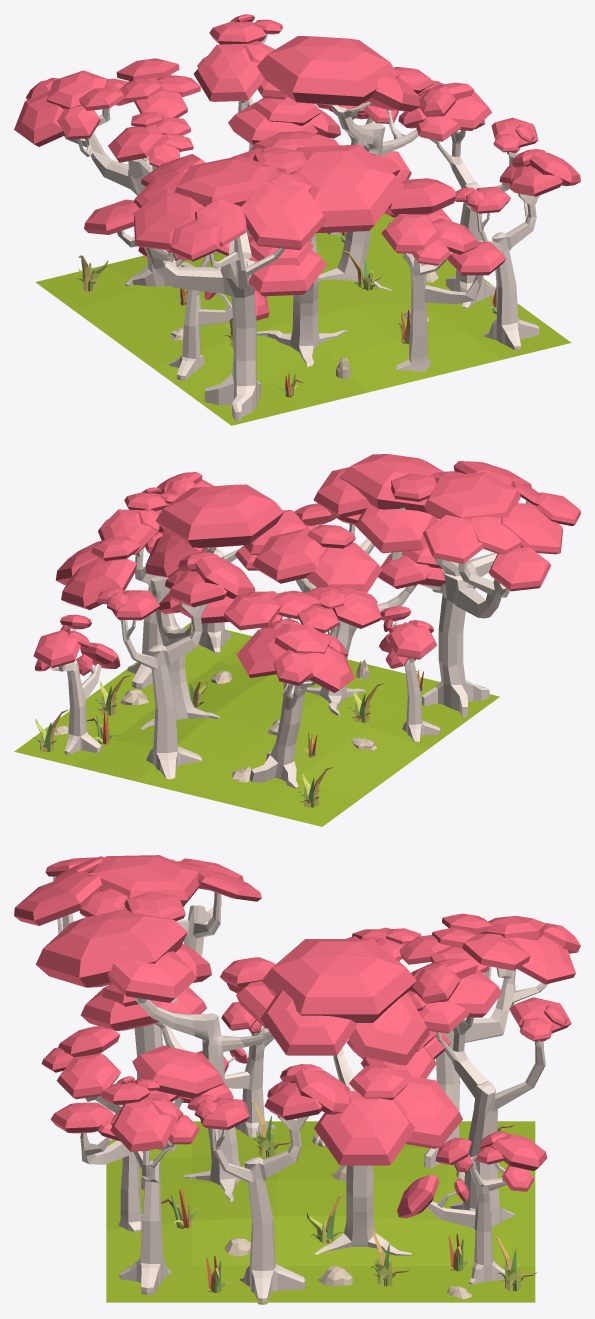
Rendered from chunk_1_final.fbx.
3 renders of one model, top to bottom at view 1: azimuth 30°, elevation 25°; view 2: azimuth 150°, elevation 25°; view 3: azimuth 270°, elevation 25°, orthographic. The views are drawn at different scales.
Visible parts, largest first — view 1: floortile, boom2_kroon_MOD, bladeren_pasted__left_leafs_bladeren_pasted__tree_bladeren_g (×12), bladeren_pasted__pSphere3_bladeren_pasted__left_leafs_blader (×3), boomkroon_bladeren, boom2_stam_MOD, pCylinder2, pCylinder1, pSphere3_3, boomstam_takken, pCylinder2_2, stam_2 (+12 smaller); view 2: floortile, bladeren_pasted__left_leafs_bladeren_pasted__tree_bladeren_g (×12), boom2_kroon_MOD, boomkroon_bladeren, bladeren_pasted__pSphere3_bladeren_pasted__left_leafs_blader (×3), boom2_stam_MOD, boomstam_takken, stam_3, pCylinder2, bovenkant_3, stam_4, pCylinder2_2 (+11 smaller); view 3: floortile, bladeren_pasted__left_leafs_bladeren_pasted__tree_bladeren_g (×15), bladeren_pasted__pSphere3_bladeren_pasted__left_leafs_blader (×3), boom2_kroon_MOD, boomkroon_bladeren, pCylinder2_2, stam, pCylinder2, boomstam_takken, bovenkant_3, pCylinder1, stam_2 (+24 smaller).
Boxes of the visible parts, x1=… form: floortile: x1=35, y1=213, x2=571, y2=425; boom2_kroon_MOD: x1=84, y1=147, x2=326, y2=261; bladeren_pasted__left_leafs_bladeren_pasted__tree_bladeren_g (×12): x1=228, y1=67, x2=506, y2=296; bladeren_pasted__pSphere3_bladeren_pasted__left_leafs_blader (×3): x1=257, y1=36, x2=478, y2=254; boomkroon_bladeren: x1=14, y1=58, x2=200, y2=167; boom2_stam_MOD: x1=117, y1=230, x2=285, y2=420; pCylinder2: x1=318, y1=101, x2=418, y2=290; pCylinder1: x1=396, y1=253, x2=483, y2=371; pSphere3_3: x1=193, y1=43, x2=264, y2=101; boomstam_takken: x1=64, y1=108, x2=171, y2=286; pCylinder2_2: x1=256, y1=234, x2=347, y2=366; stam_2: x1=484, y1=248, x2=539, y2=349; floortile: x1=14, y1=622, x2=499, y2=826; bladeren_pasted__left_leafs_bladeren_pasted__tree_bladeren_g (×12): x1=56, y1=467, x2=438, y2=623; boom2_kroon_MOD: x1=391, y1=461, x2=580, y2=591; boomkroon_bladeren: x1=224, y1=586, x2=381, y2=692; bladeren_pasted__pSphere3_bladeren_pasted__left_leafs_blader (×3): x1=155, y1=454, x2=443, y2=547; boom2_stam_MOD: x1=390, y1=500, x2=531, y2=717; boomstam_takken: x1=249, y1=607, x2=345, y2=788; stam_3: x1=146, y1=664, x2=201, y2=779; pCylinder2: x1=140, y1=547, x2=219, y2=729; bovenkant_3: x1=120, y1=602, x2=208, y2=669; stam_4: x1=64, y1=663, x2=101, y2=754; pCylinder2_2: x1=302, y1=538, x2=416, y2=715; floortile: x1=106, y1=1121, x2=535, y2=1302; bladeren_pasted__left_leafs_bladeren_pasted__tree_bladeren_g (×15): x1=50, y1=943, x2=462, y2=1165; bladeren_pasted__pSphere3_bladeren_pasted__left_leafs_blader (×3): x1=36, y1=909, x2=416, y2=1099; boom2_kroon_MOD: x1=14, y1=855, x2=261, y2=925; boomkroon_bladeren: x1=346, y1=913, x2=580, y2=984; pCylinder2_2: x1=133, y1=997, x2=272, y2=1202; stam: x1=240, y1=1178, x2=305, y2=1304; pCylinder2: x1=314, y1=1048, x2=412, y2=1255; boomstam_takken: x1=399, y1=960, x2=548, y2=1168; bovenkant_3: x1=435, y1=1017, x2=545, y2=1114; pCylinder1: x1=80, y1=1096, x2=185, y2=1232; stam_2: x1=119, y1=1181, x2=171, y2=1294.
Size of the model in its own units: 67.22 by 36.08 by 66.05.
